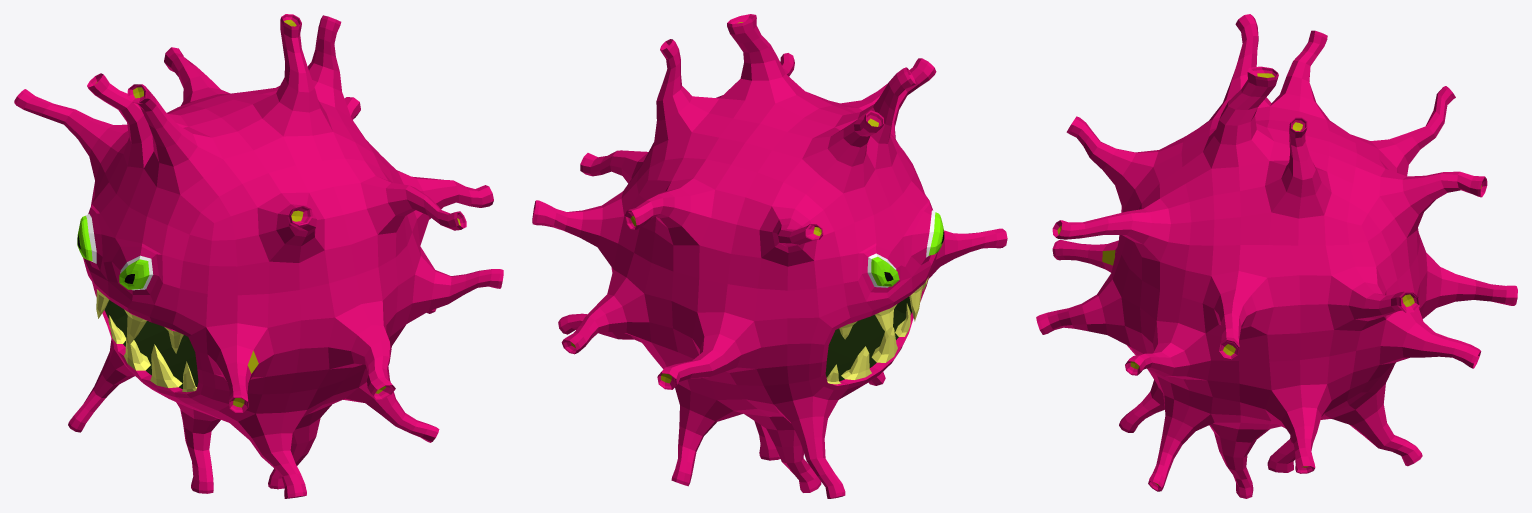
Rendered from virus1.glb.
3 renders of one model, left to right at view 1: azimuth 30°, elevation 25°; view 2: azimuth 150°, elevation 25°; view 3: azimuth 270°, elevation 25°, orthographic. The views are drawn at different scales.
Parts seen in each view (by area): view 1: Virus1; view 2: Virus1; view 3: Virus1.
Boxes of the visible parts, x1=… form: Virus1: x1=14, y1=14, x2=503, y2=498; Virus1: x1=532, y1=14, x2=1007, y2=498; Virus1: x1=1036, y1=14, x2=1517, y2=498.
Size of the model in its own units: 2.12 by 2.54 by 2.54.
Materials: 1 (1 with a texture image).
